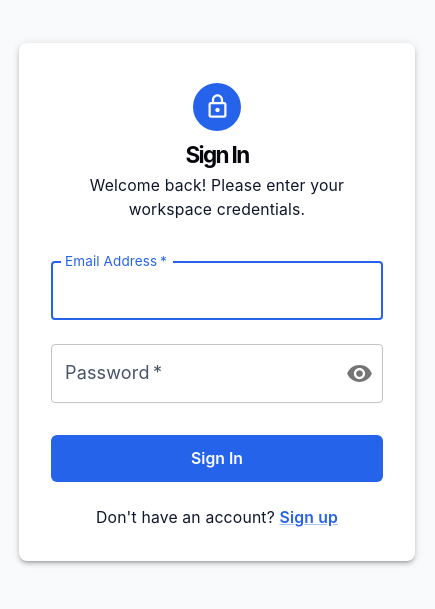
LoginPage Component › validates empty email field on form submission
Step 1. Click the button "Sign In" → (217, 458), box x1=51 y1=435 x2=383 y2=482
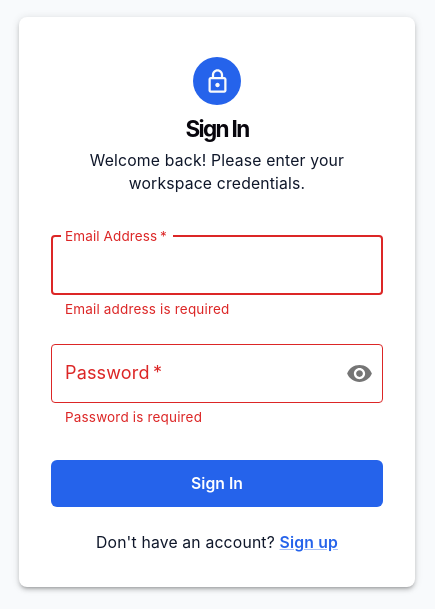
Result: the text "Email address is required" is shown at x1=65 y1=301 x2=229 y2=317
